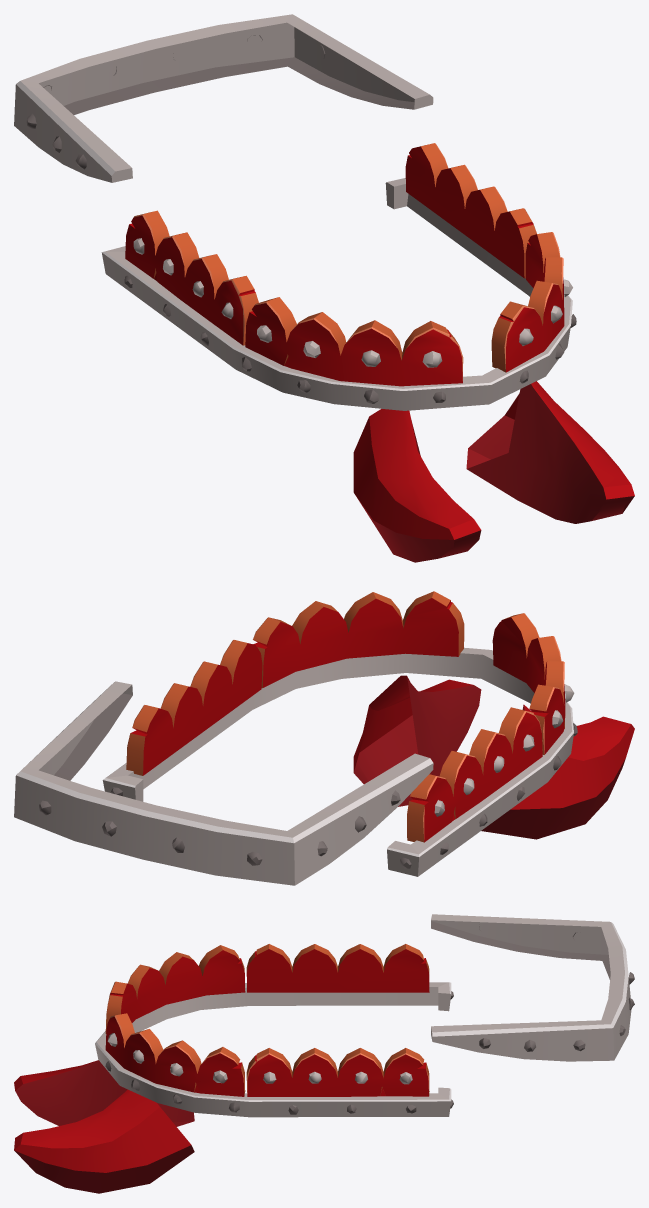
Rendered from Armor_Red_Big.fbx.
The picture shows the model from 3 angles, top to bottom: view 1: azimuth 30°, elevation 25°; view 2: azimuth 150°, elevation 25°; view 3: azimuth 270°, elevation 25°; orthographic projection. The views are drawn at different scales.
Visible parts, largest first — view 1: Armor_Color_01, Armor_Color_07, Armor_Color_05, Armor_Color_04, Armor_Color_03, Armor_Color_02, Armor_Color_06; view 2: Armor_Color_07, Armor_Color_01, Armor_Color_05, Armor_Color_06, Armor_Color_03, Armor_Color_02, Armor_Color_04; view 3: Armor_Color_01, Armor_Color_07, Armor_Color_05, Armor_Color_03, Armor_Color_02, Armor_Color_06, Armor_Color_04.
Boxes of the visible parts, x1,y1,x2,y2 form: Armor_Color_01: [353, 381, 634, 562]; Armor_Color_07: [14, 14, 433, 182]; Armor_Color_05: [101, 178, 576, 410]; Armor_Color_04: [245, 297, 463, 386]; Armor_Color_03: [125, 210, 258, 345]; Armor_Color_02: [405, 143, 536, 278]; Armor_Color_06: [491, 232, 572, 372]; Armor_Color_07: [14, 681, 433, 885]; Armor_Color_01: [353, 675, 634, 839]; Armor_Color_05: [102, 647, 577, 876]; Armor_Color_06: [253, 591, 464, 688]; Armor_Color_03: [407, 707, 542, 842]; Armor_Color_02: [126, 640, 262, 775]; Armor_Color_04: [492, 613, 574, 754]; Armor_Color_01: [14, 1060, 194, 1193]; Armor_Color_07: [431, 914, 634, 1061]; Armor_Color_05: [95, 982, 453, 1117]; Armor_Color_03: [246, 944, 429, 992]; Armor_Color_02: [246, 1048, 429, 1096]; Armor_Color_06: [105, 1013, 245, 1096]; Armor_Color_04: [105, 945, 245, 1033].
Bounding box in the file's own units: 18.17 × 12.9 × 39.31.
